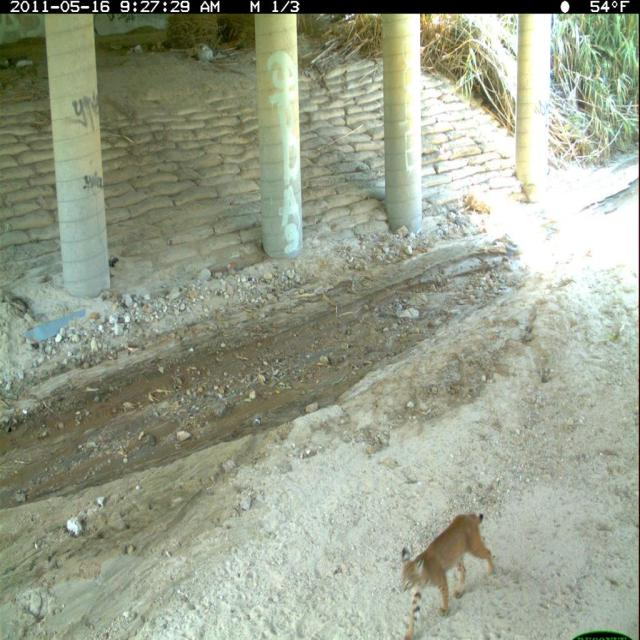bobcat: (398, 510, 499, 640)
